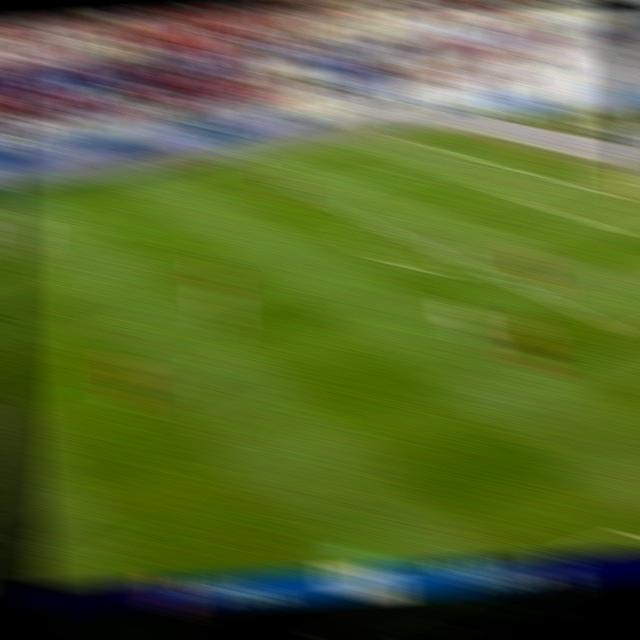bigarea_bottom_inner: (621, 320, 640, 350)
bigarea_top_inner: (286, 180, 321, 201)
bigarea_top_outter: (461, 148, 496, 167)
bottom_arc_area_intersection: (470, 259, 505, 282)
corner: (382, 127, 419, 144)
smallarea_top_inner: (483, 182, 517, 202)
smallarea_top_outter: (541, 169, 576, 190)
top_arc_area_intersection: (357, 211, 392, 232)
